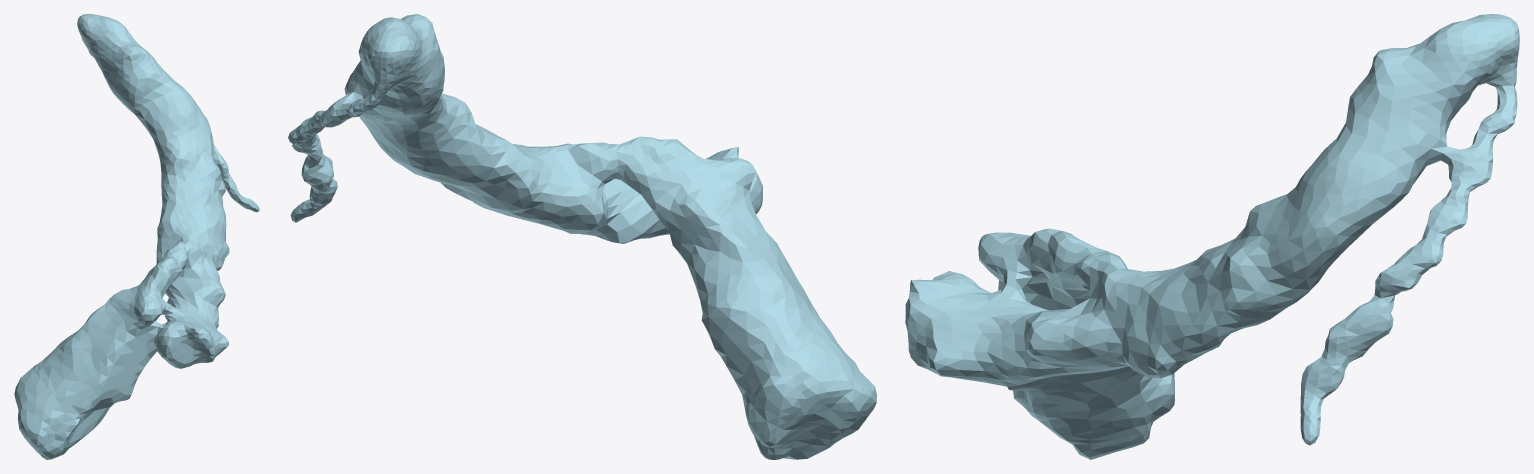
The model's file is gallbladder.obj.
3 views of the same model, side by side, from view 1: azimuth 30°, elevation 25°; view 2: azimuth 150°, elevation 25°; view 3: azimuth 270°, elevation 25° (orthographic). The views are drawn at different scales.
Parts seen in each view (by area): view 1: grp1; view 2: grp1; view 3: grp1.
Boxes of the visible parts, bbox=[...] form: grp1: bbox=[14, 14, 259, 459]; grp1: bbox=[288, 14, 876, 459]; grp1: bbox=[905, 14, 1519, 459].
Bounding box in the file's own units: 63.04 × 63.97 × 62.35.
